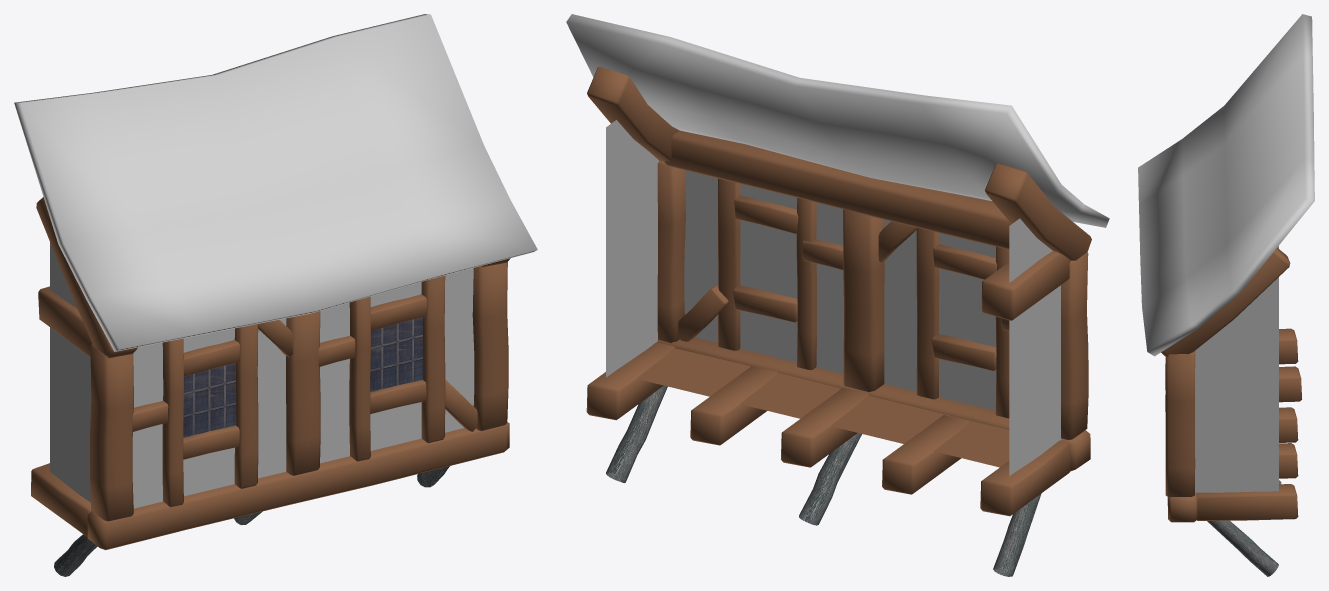
Rendered from extra windows small.fbx.
The picture shows the model from 3 angles, left to right: view 1: azimuth 30°, elevation 25°; view 2: azimuth 150°, elevation 25°; view 3: azimuth 270°, elevation 25°; orthographic projection. The views are drawn at different scales.
Parts seen in each view (by area): view 1: extra windows small; view 2: extra windows small; view 3: extra windows small.
Part boxes in pixels (box(x1,y1,x2,y2)): extra windows small: box(14, 14, 537, 576); extra windows small: box(566, 14, 1109, 576); extra windows small: box(1138, 14, 1314, 576).
Size of the model in its own units: 458 by 474 by 190.
